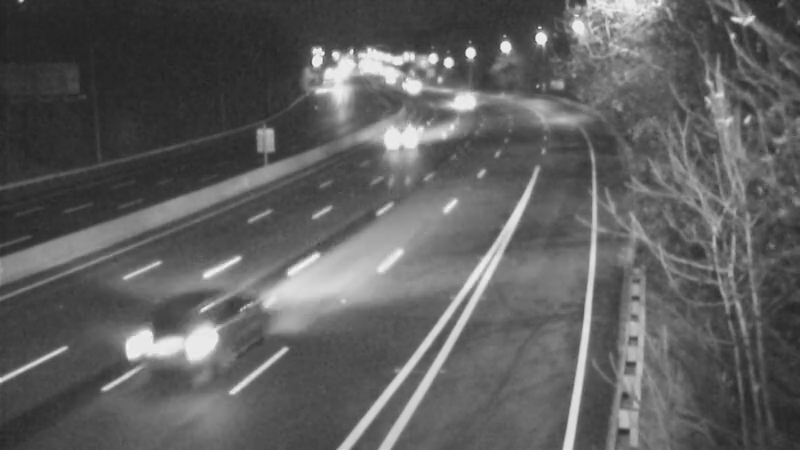vehicle: (115, 288, 225, 398), (385, 62, 435, 112), (432, 72, 482, 122), (381, 106, 431, 156)
